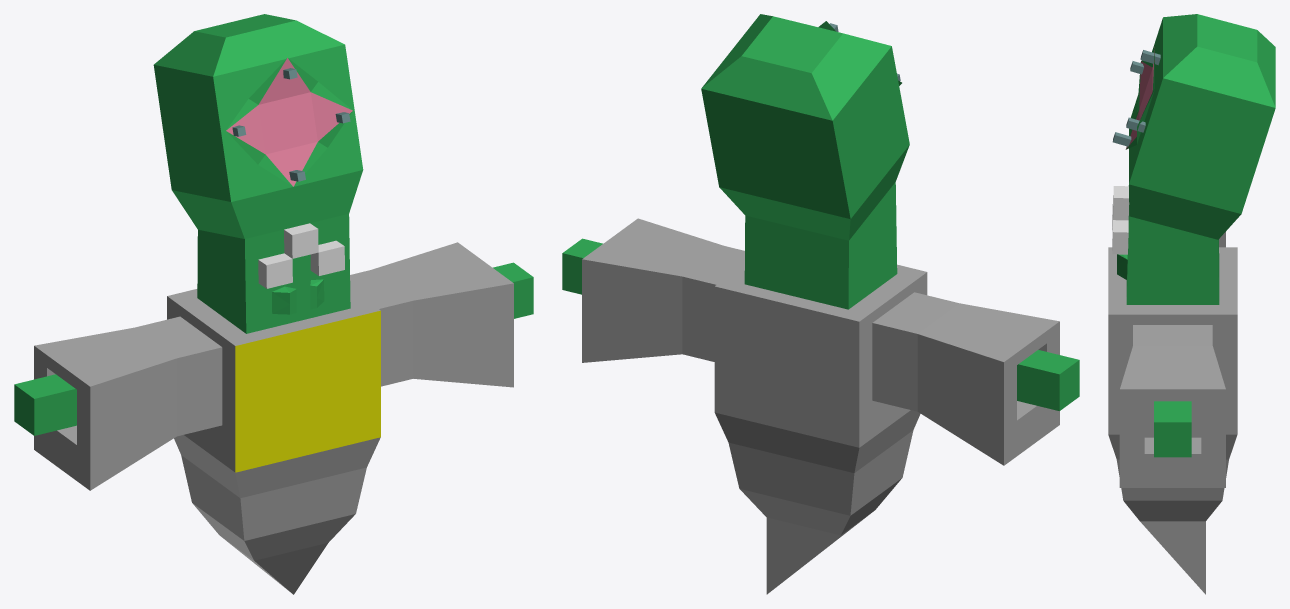
Rendered from AlienPriest.fbx.
3 views of the same model, side by side, from view 1: azimuth 30°, elevation 25°; view 2: azimuth 150°, elevation 25°; view 3: azimuth 270°, elevation 25° (orthographic). The views are drawn at different scales.
Visible parts, largest first — view 1: pCube1; view 2: pCube1; view 3: pCube1, pPlane1.
Part boxes in pixels (x1,y1,x2,y2): pCube1: [14, 14, 533, 594]; pCube1: [562, 14, 1079, 594]; pCube1: [1108, 14, 1275, 594]; pPlane1: [1112, 50, 1160, 146].
Size of the model in its own units: 6.71 by 7.43 by 2.06.
